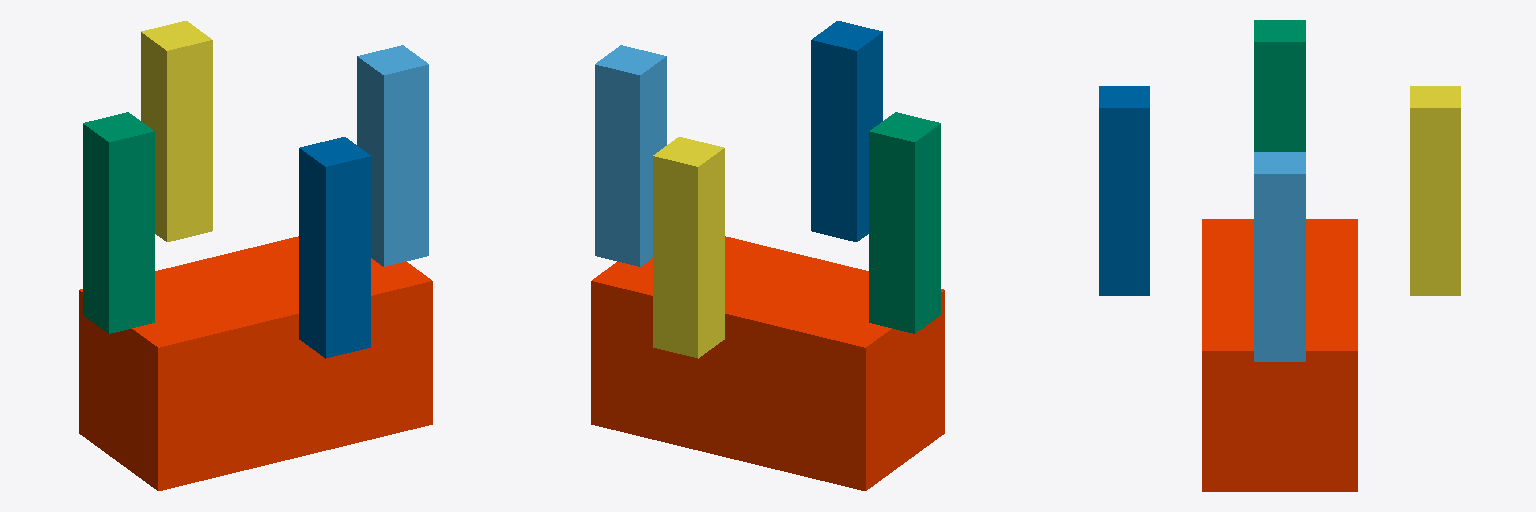
robot.urdf — gripper:
<?xml version="1.0" ?>
<robot name="gripper">
  <link name="baseLink">
    <inertial>
      <origin rpy="0 0 0" xyz="0 0 0"/>
       <mass value="0.001"/>
       <inertia ixx="0.01" ixy="0" ixz="0" iyy="0.01" iyz="0" izz="0.01"/>
    </inertial>
    <visual>
      <origin rpy="0 0 0" xyz="0 0.0 0.075"/>
      <geometry>
			<box size="0.3 0.15 0.15"/>
      </geometry>
       <material name="orange">
        <color rgba="0.996078431372549 0.29411764705882354 0.011764705882352941 1.0"/>
      </material>
    </visual>
  </link>


  <link name="finger1">
    <contact>
      <friction_anchor/>
      <stiffness value="30000.0"/>
      <damping value="1000.0"/>
      <spinning_friction value="0.1"/>
      <lateral_friction value="1.0"/>
    </contact>
  	<inertial>
      <origin rpy="0 0 0" xyz="0 0 0"/>
       <mass value="0.1"/>
       <inertia ixx="0.1" ixy="0" ixz="0" iyy="0.1" iyz="0" izz="0.1"/>
    </inertial>
    <visual>
      <origin rpy="0 0 0" xyz="0.1 0.0 0.0"/>
      <geometry>
        <box size="0.2 0.05 0.05"/>
      </geometry>
    </visual>
    <collision>
      <origin rpy="0 0 0" xyz="0.1 0 0.0"/>
      <geometry>
        <box size="0.2 0.05 0.05"/>
      </geometry>
      <material name="panda_white"/>
    </collision>
  </link>
  <link name="finger2">
    <contact>
      <friction_anchor/>
      <stiffness value="30000.0"/>
      <damping value="1000.0"/>
      <spinning_friction value="0.1"/>
      <lateral_friction value="1.0"/>
    </contact>
  	<inertial>
      <origin rpy="0 0 0" xyz="0 0 0"/>
       <mass value="0.1"/>
       <inertia ixx="0.1" ixy="0" ixz="0" iyy="0.1" iyz="0" izz="0.1"/>
    </inertial>
      <geometry>
		<box size="0.2 0.05 0.05"/>
      </geometry>
      <material name="panda_white"/>
    <visual>
      <origin rpy="0 0 0" xyz="0.1 0.0 0.0"/>
      <geometry>
        <box size="0.2 0.05 0.05"/>
      </geometry>
    </visual>
    <collision>
      <origin rpy="0 0 0" xyz="0.1 0.0 0.0"/>
      <geometry>
        <box size="0.2 0.05 0.05"/>
      </geometry>
      <material name="panda_white"/>
    </collision>
  </link>

  <link name="finger3">
    <contact>
      <friction_anchor/>
      <stiffness value="30000.0"/>
      <damping value="1000.0"/>
      <spinning_friction value="0.1"/>
      <lateral_friction value="1.0"/>
    </contact>
  	<inertial>
      <origin rpy="0 0 0" xyz="0 0 0"/>
       <mass value="0.1"/>
       <inertia ixx="0.1" ixy="0" ixz="0" iyy="0.1" iyz="0" izz="0.1"/>
    </inertial>
    <visual>
      <origin rpy="0 0 0" xyz="0.1 0.0 0.0"/>
      <geometry>
        <box size="0.2 0.05 0.05"/>
      </geometry>
    </visual>
    <collision>
      <origin rpy="0 0 0" xyz="0.1 0 0.0"/>
      <geometry>
        <box size="0.2 0.05 0.05"/>
      </geometry>
      <material name="panda_white"/>
    </collision>
  </link>
  <link name="finger4">
    <contact>
      <friction_anchor/>
      <stiffness value="30000.0"/>
      <damping value="1000.0"/>
      <spinning_friction value="0.1"/>
      <lateral_friction value="1.0"/>
    </contact>
  	<inertial>
      <origin rpy="0 0 0" xyz="0 0 0"/>
       <mass value="0.1"/>
       <inertia ixx="0.1" ixy="0" ixz="0" iyy="0.1" iyz="0" izz="0.1"/>
    </inertial>
      <geometry>
		<box size="0.2 0.05 0.05"/>
      </geometry>
      <material name="panda_white"/>
    <visual>
      <origin rpy="0 0 0" xyz="0.1 0.0 0.0"/>
      <geometry>
        <box size="0.2 0.05 0.05"/>
      </geometry>
    </visual>
    <collision>
      <origin rpy="0 0 0" xyz="0.1 0.0 0.0"/>
      <geometry>
        <box size="0.2 0.05 0.05"/>
      </geometry>
      <material name="panda_white"/>
    </collision>
  </link>



  <joint name="finger_joint1" type="prismatic">
    <parent link="baseLink"/>
    <child link="finger1"/>
    <origin rpy="0 -1.57079632679 0" xyz="0.15 0 0.15"/>
    <axis xyz="0 0 1"/>
    <limit effort="20" lower="0.0" upper="0.1" velocity="0.2"/>
  </joint>
  <joint name="finger_joint2" type="prismatic">
    <parent link="baseLink"/>
    <child link="finger2"/>
    <origin rpy="0 -1.57079632679 0" xyz="-0.15 0 0.15"/>
    <axis xyz="0 0 -1"/>
    <limit effort="20" lower="-0" upper="0.1" velocity="0.2"/>
    <mimic joint="finger_joint1"/>
  </joint>

  <joint name="finger_joint3" type="prismatic">
    <parent link="baseLink"/>
    <child link="finger3"/>
    <origin rpy="0 -1.57079632679 0" xyz="0 0.15 0.15"/>
    <axis xyz="0 -1 0"/>
    <limit effort="20" lower="0.0" upper="0.1" velocity="0.2"/>
  </joint>
  <joint name="finger_joint4" type="prismatic">
    <parent link="baseLink"/>
    <child link="finger4"/>
    <origin rpy="0 -1.57079632679 0" xyz="0 -0.15 0.15"/>
    <axis xyz="0 1 0"/>
    <limit effort="20" lower="-0" upper="0.1" velocity="0.2"/>
    <mimic joint="finger_joint1"/>
  </joint>
  <joint name="gripping_trafo" type="fixed">
		<parent link="baseLink"/>
		<child link="tcp"/>
		<origin xyz="0 0.0 0.25" rpy="0 0 0"/>
  </joint>

  <link name="tcp">
  </link>

</robot>

--- What the picture shows (computed from the rendered views, not written in the file) ---
3 views of the same robot in one strip: view 1: azimuth 30°, elevation 25°; view 2: azimuth 150°, elevation 25°; view 3: azimuth 270°, elevation 25° (orthographic).
Model gripper with 6 links and 5 joints (4 prismatic, 1 fixed), rooted at baseLink, posed all joints at 0.
Links seen in each view (by area): view 1: baseLink, finger2, finger4, finger1, finger3; view 2: baseLink, finger2, finger3, finger1, finger4; view 3: baseLink, finger1, finger3, finger4, finger2.
Boxes of the visible links, box(x1,y1,x2,y2) form: baseLink: box(79, 236, 432, 490); finger2: box(83, 112, 154, 333); finger4: box(299, 137, 370, 358); finger1: box(357, 45, 428, 266); finger3: box(141, 21, 212, 241); baseLink: box(591, 236, 944, 490); finger2: box(869, 112, 940, 333); finger3: box(653, 137, 724, 358); finger1: box(595, 45, 666, 266); finger4: box(811, 21, 882, 241); baseLink: box(1202, 219, 1357, 491); finger1: box(1254, 152, 1305, 361); finger3: box(1410, 86, 1460, 295); finger4: box(1099, 86, 1149, 295); finger2: box(1254, 20, 1305, 151).
Bounding box of the posed robot: 0.35 × 0.35 × 0.35 m (x, y, z).
Geometry: primitives only (box / cylinder / sphere), no mesh files.